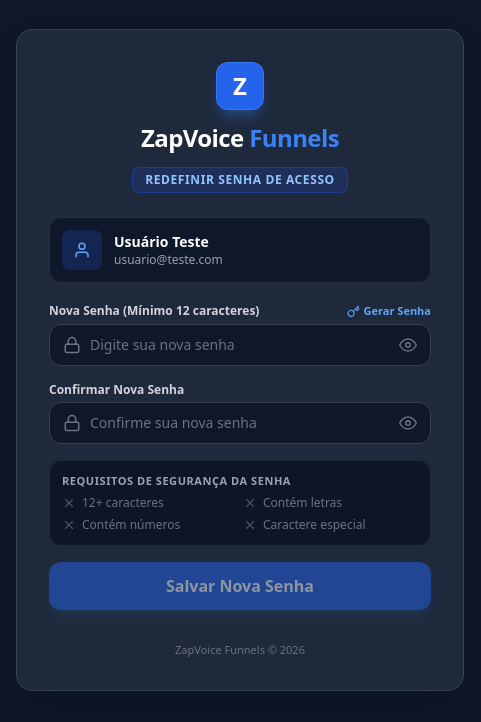
Test: ResetPassword Page › envia a nova senha com sucesso ao backend
Type "MinhaNovaSenha@2026!" into the password field with placeholder "Digite sua nova senha".
click(240, 344); type("MinhaNovaSenha@2026!")  # box [49,324,431,366]
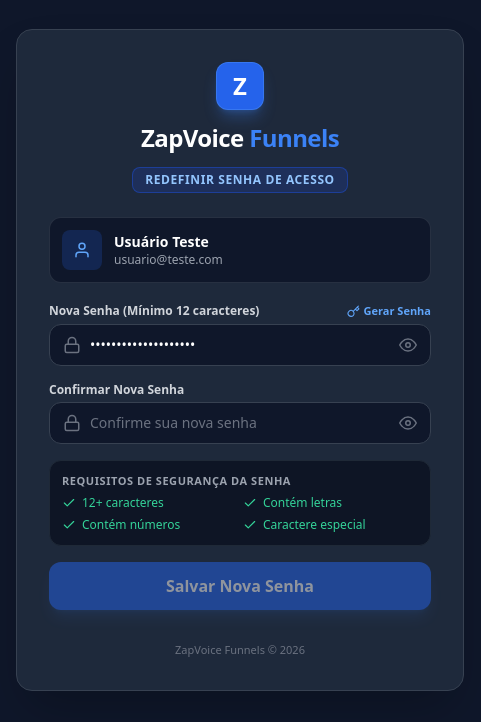
Type "MinhaNovaSenha@2026!" into the password field with placeholder "Confirme sua nova senha".
click(240, 422); type("MinhaNovaSenha@2026!")  # box [49,402,431,444]
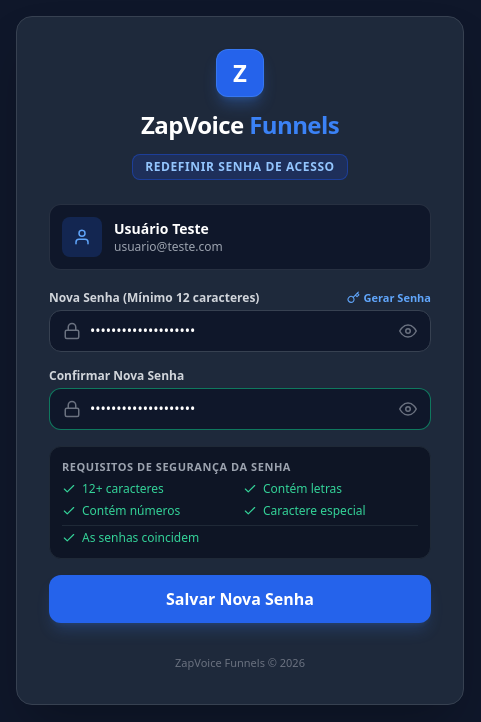
expect the button "Salvar Nova Senha" is enabled: met
Click the button "Salvar Nova Senha".
click(240, 599)  # box [49,575,431,623]
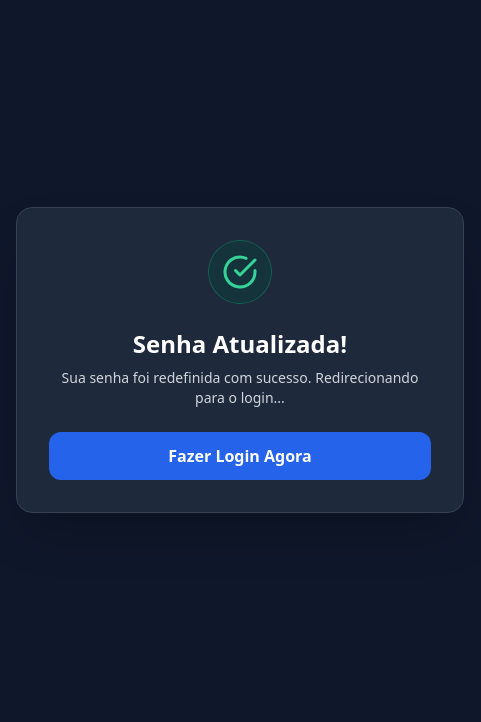
expect the heading "Senha Atualizada!" is shown: met, box [133,327,347,360]
